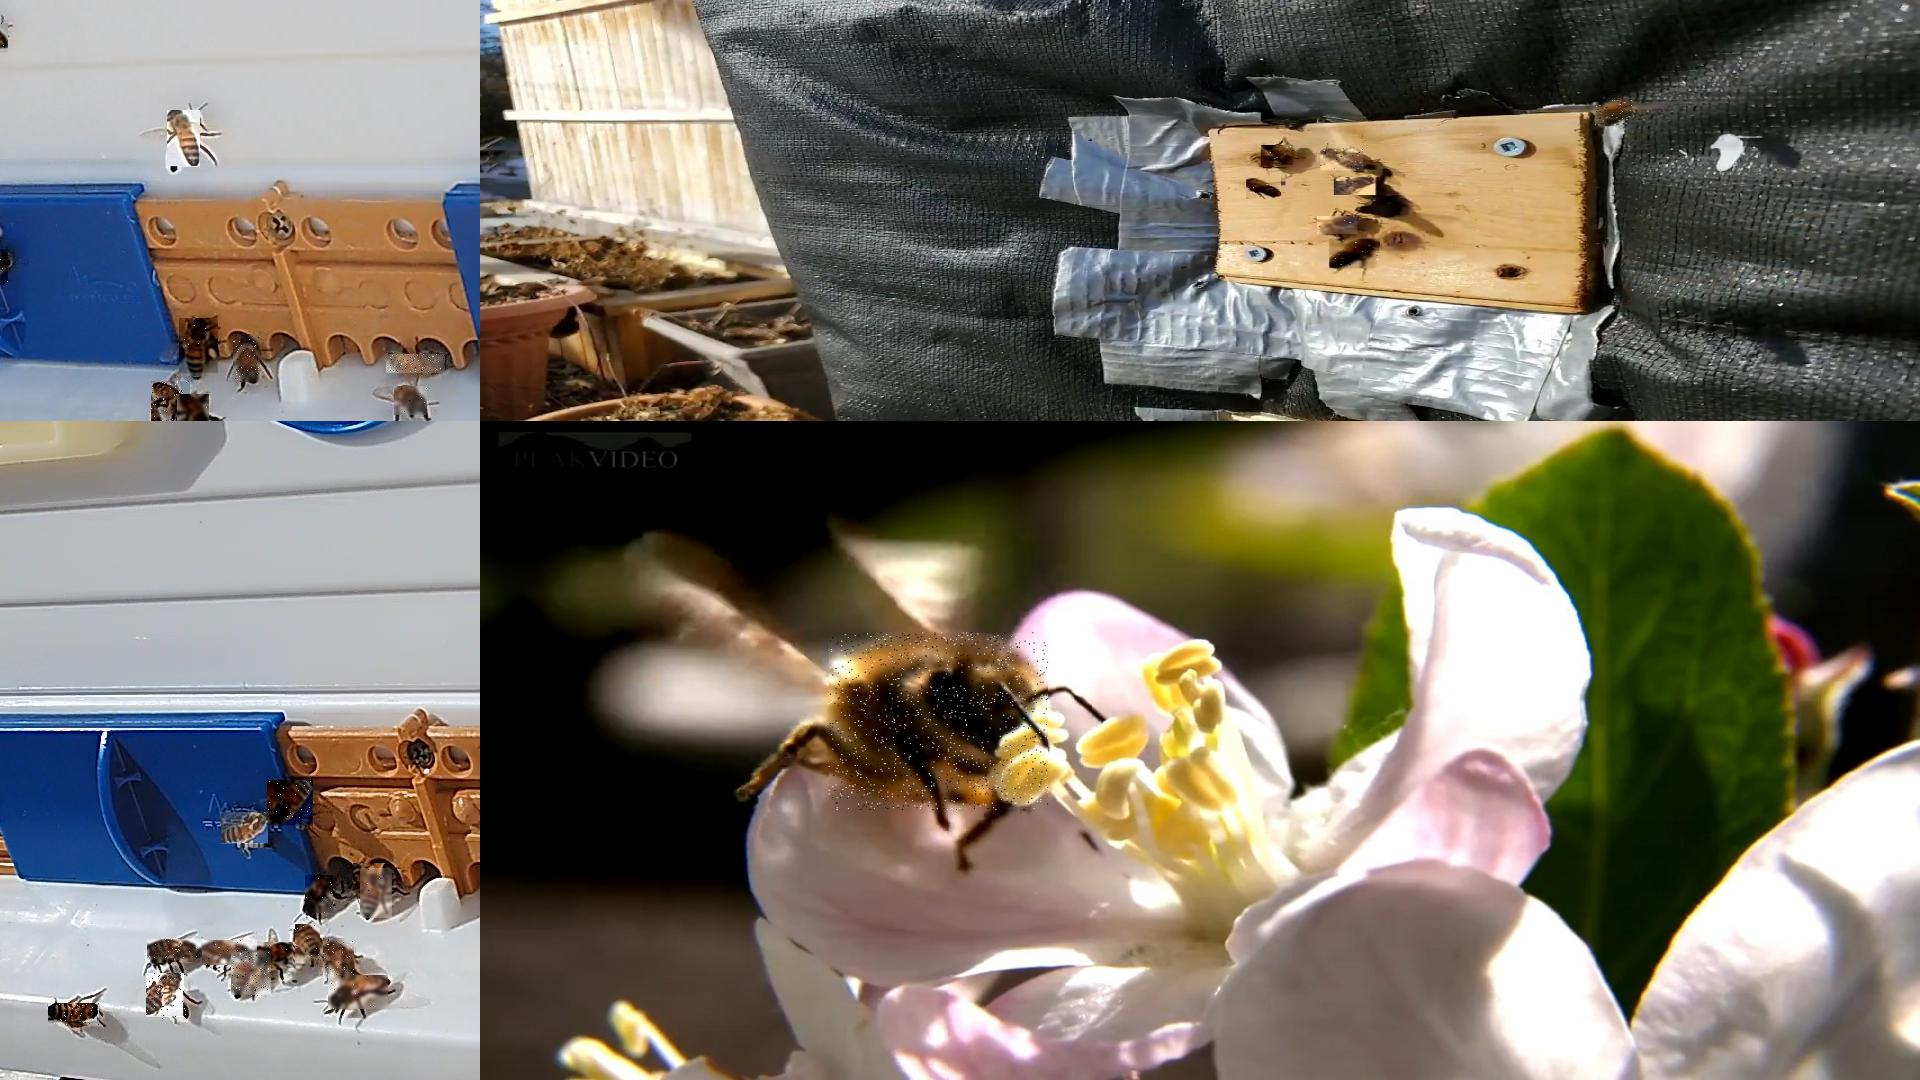bee: (828, 633, 1050, 812), (266, 781, 314, 829), (328, 975, 389, 1010), (167, 111, 202, 170), (146, 975, 189, 1021), (231, 953, 273, 998), (222, 812, 269, 848), (360, 870, 393, 919), (152, 381, 193, 419), (202, 940, 258, 967), (1331, 239, 1379, 269), (233, 334, 261, 382), (323, 939, 355, 981), (49, 1004, 104, 1027), (148, 940, 206, 963), (386, 353, 446, 375), (305, 876, 334, 915), (394, 386, 429, 418), (1320, 149, 1365, 173), (1596, 99, 1634, 127), (295, 924, 322, 964), (258, 943, 295, 969), (1335, 178, 1381, 198), (1247, 177, 1287, 199), (177, 394, 211, 419), (353, 864, 388, 889), (1317, 216, 1358, 235), (1262, 146, 1298, 167), (0, 249, 11, 287)
pollenbee: (179, 319, 219, 377)
